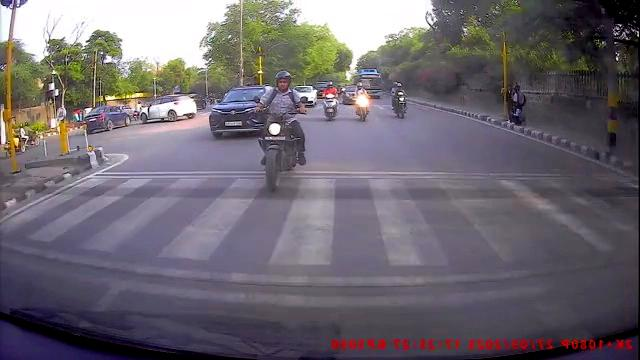motorcycle_with_helmet: (253, 69, 308, 194), (321, 80, 339, 121), (354, 82, 371, 123)
passenger_with_helmet: (390, 81, 407, 119)
